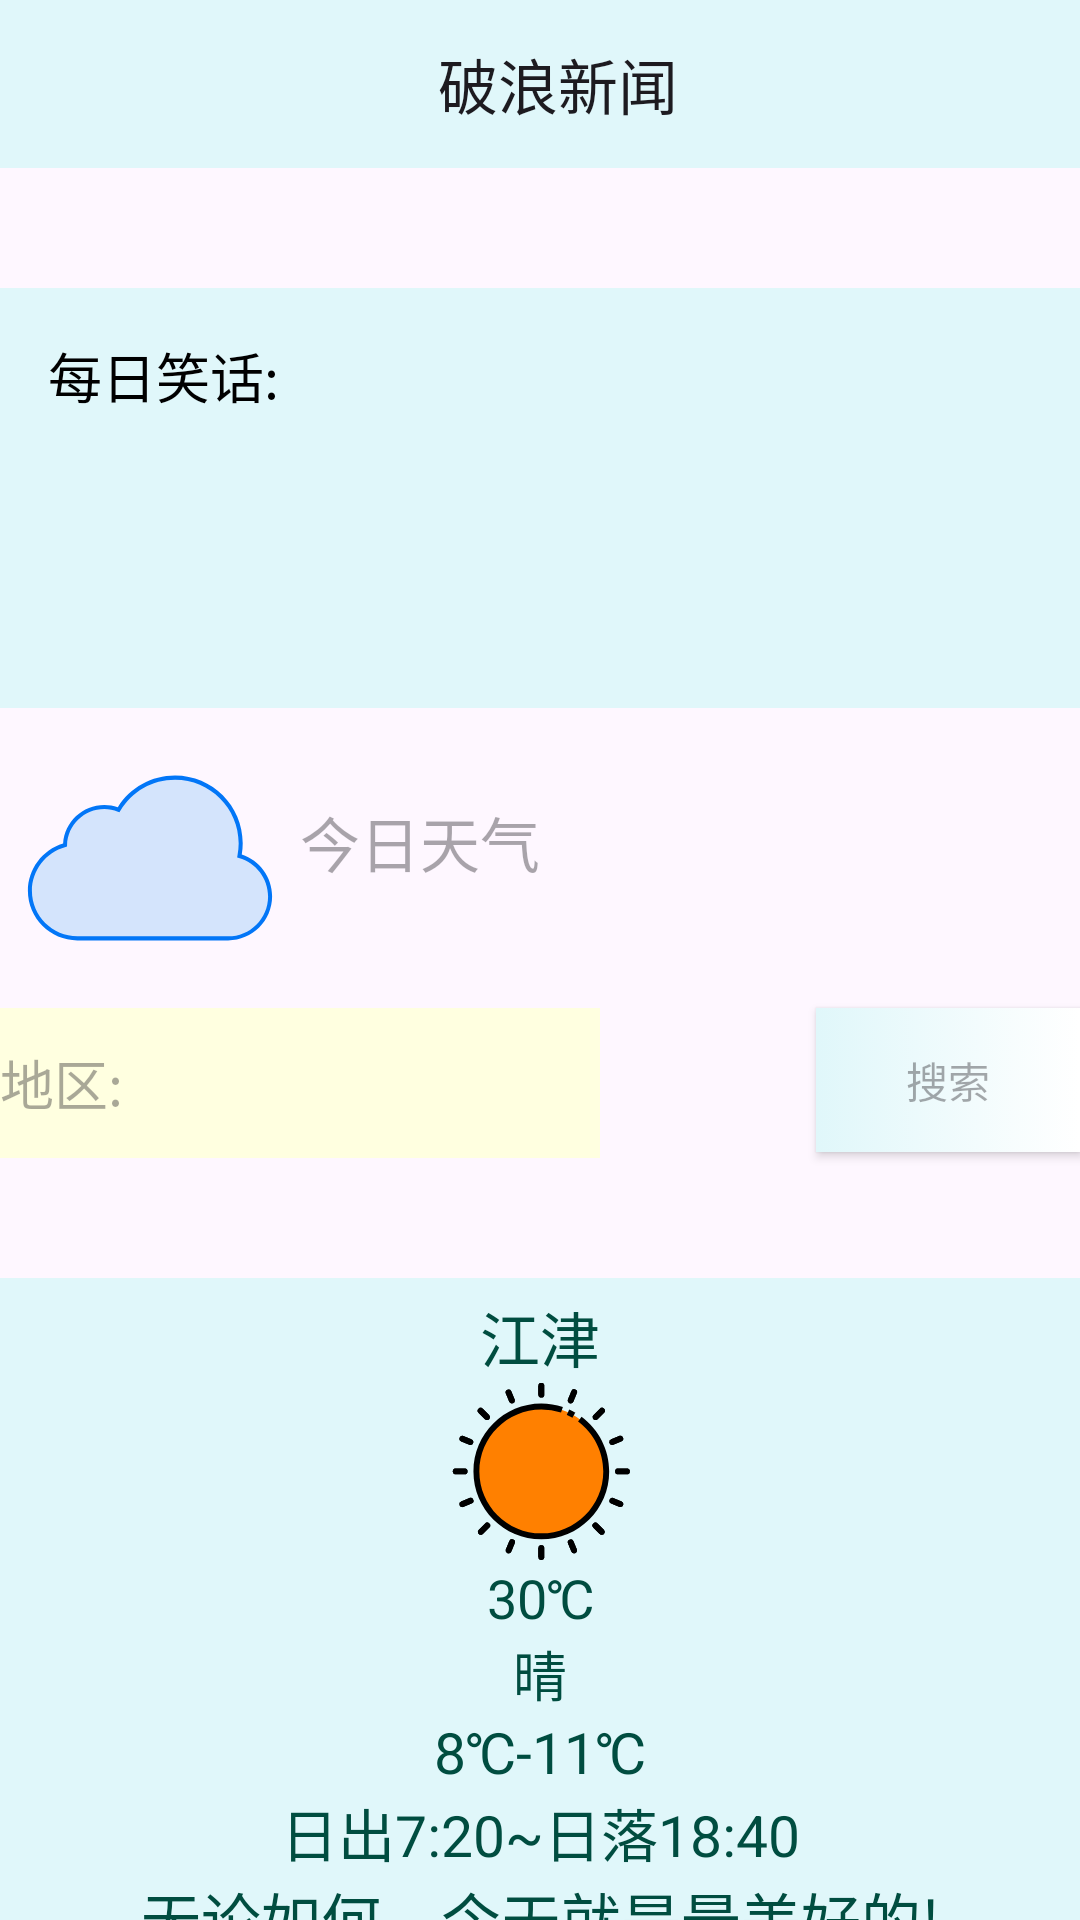

Locate icon controls on the screen. Image size 1080 x 1920, boxes as [left=x1, top=y1, right=x2, bottom=y2].
cloud: [left=27, top=775, right=272, bottom=941]
qing: [left=452, top=1383, right=630, bottom=1560]
